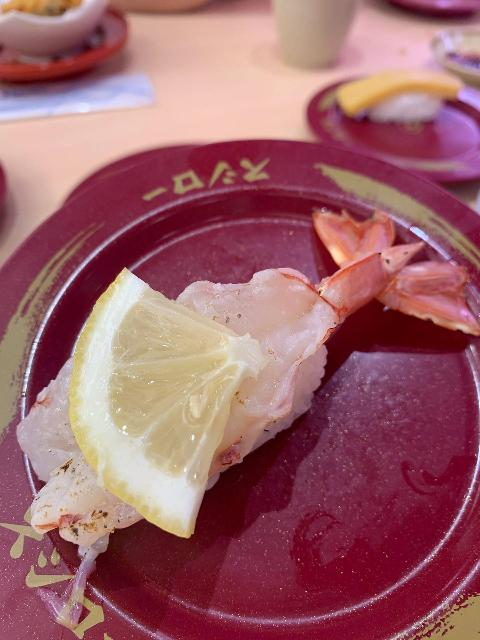janred: (49, 145, 469, 631), (301, 46, 480, 185), (364, 0, 480, 25), (0, 142, 26, 250)
